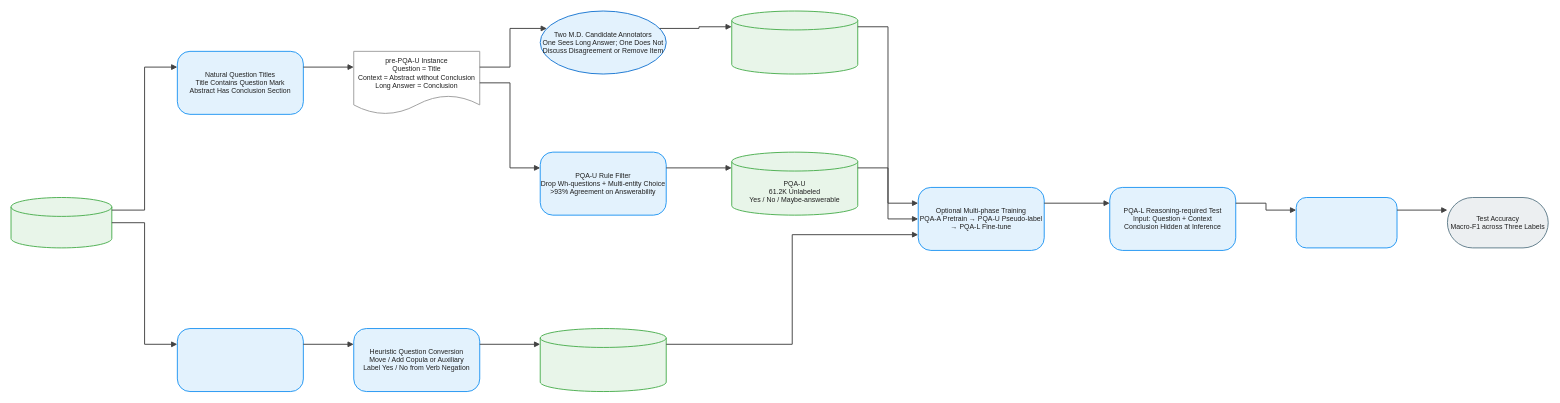
Image size: 1560x403. Some labels were removed from this diagram. The centre of each missing label's shape, as x and y in pixels:
"PQA-A: 211.3K Artificial Train 200K / Validation 11.3K Yes 92.8% / No 7.2%" belongs at (x=602, y=360).
"PQA-L: 1,000 Expert-labeled 500 for 10-fold Cross-validation 500 Held-out Test" belongs at (x=794, y=42).
"Predict One Label Yes / No / Maybe" belongs at (x=1346, y=222).
"PubMed Structured Abstracts Title + Body + Conclusion" belongs at (x=61, y=222).
"Statement-title Articles NP-(VBP/VBZ) Pattern Structured Conclusion Required" belongs at (x=240, y=360).
